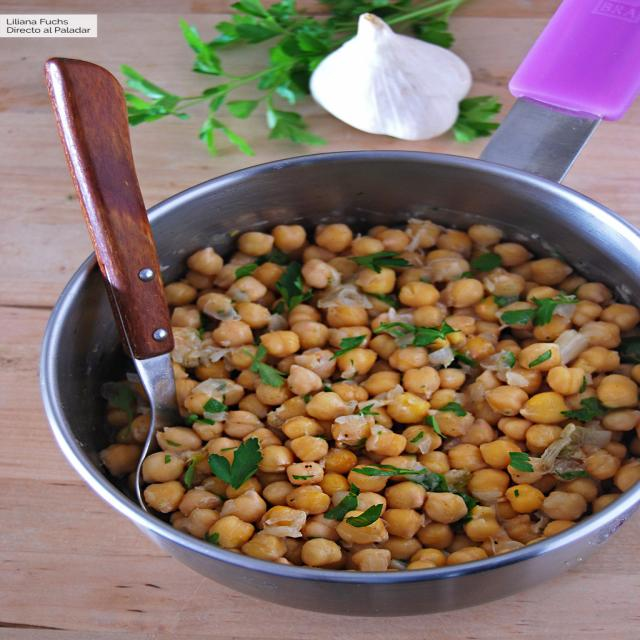garbanzos: (162, 229, 626, 555)
